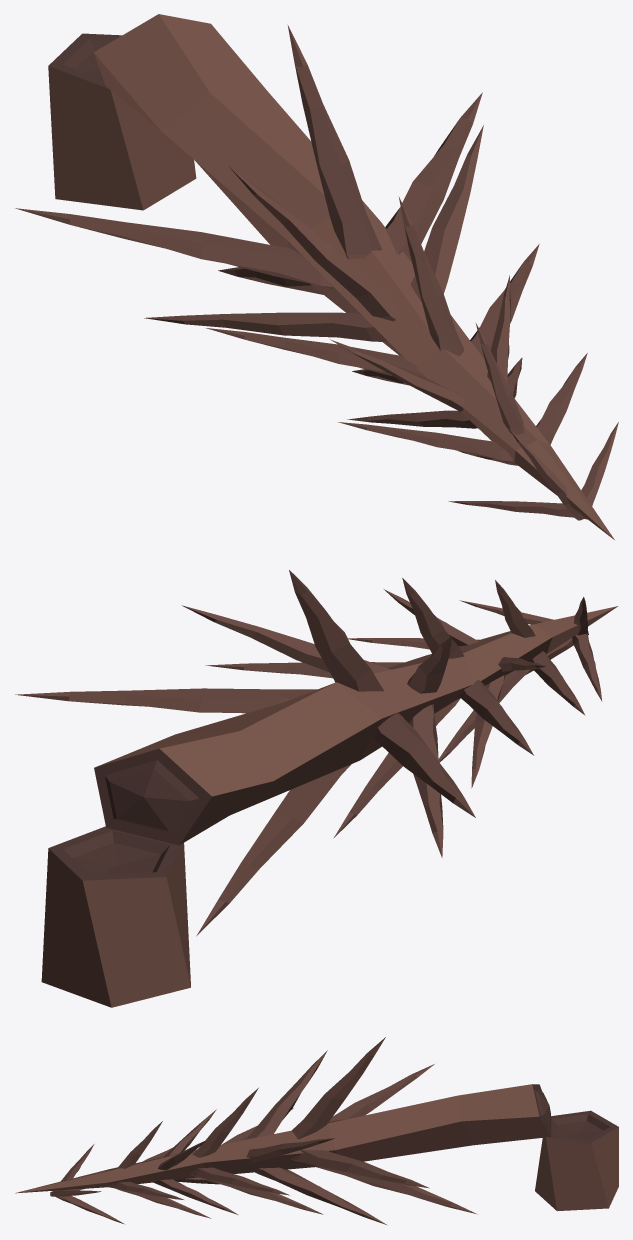
The model's file is Fallen_Tree.fbx.
3 renders of one model, top to bottom at view 1: azimuth 30°, elevation 25°; view 2: azimuth 150°, elevation 25°; view 3: azimuth 270°, elevation 25°, orthographic. The views are drawn at different scales.
Parts seen in each view (by area): view 1: Cylinder.002; view 2: Cylinder.002; view 3: Cylinder.002.
Boxes of the visible parts, <box> form: Cylinder.002: <box>15,14,618,539</box>; Cylinder.002: <box>15,570,618,1007</box>; Cylinder.002: <box>15,1037,618,1225</box>.
Bounding box in the file's own units: 2.71 × 1.76 × 5.39.
